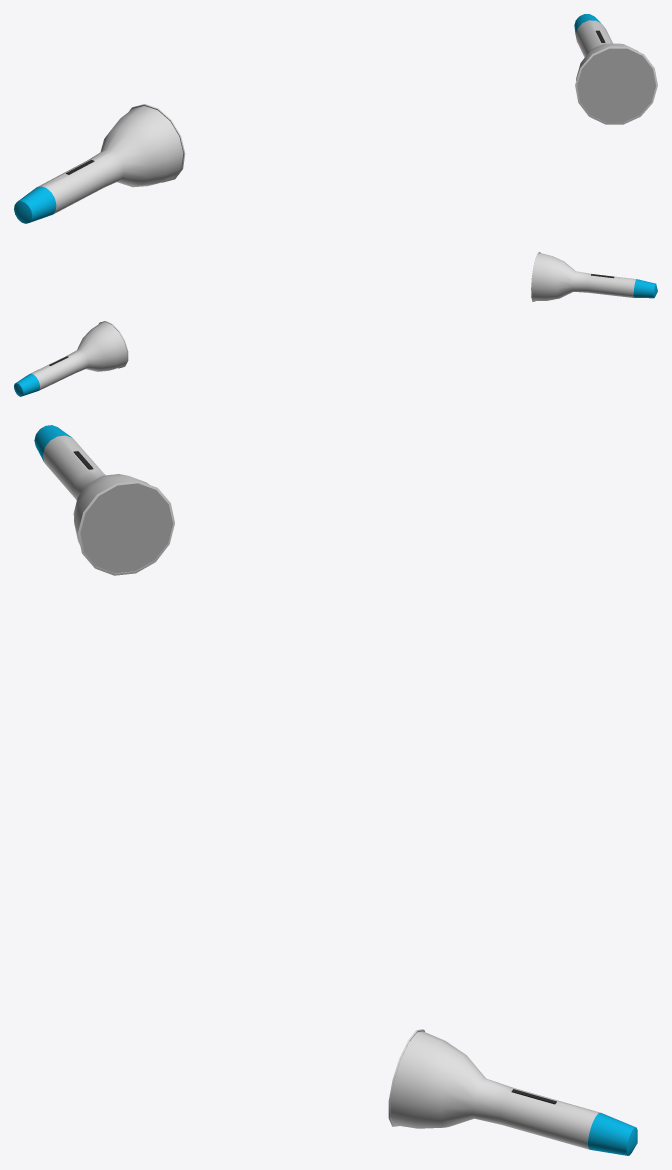
File: trouch.fbx
The picture shows the model from 3 angles, top to bottom: view 1: azimuth 30°, elevation 25°; view 2: azimuth 150°, elevation 25°; view 3: azimuth 270°, elevation 25°; orthographic projection. The views are drawn at different scales.
Parts seen in each view (by area): view 1: trouch_main (×2), glass; view 2: trouch_main (×2); view 3: trouch_main (×2), glass.
Part boxes in pixels (x1,y1,x2,y2): trouch_main (×2): (14,14,657,223); glass: (577,48,655,122); trouch_main (×2): (14,252,657,396); trouch_main (×2): (34,425,637,1155); glass: (80,483,172,573).
Size of the model in its own units: 242 by 68.75 by 127.
